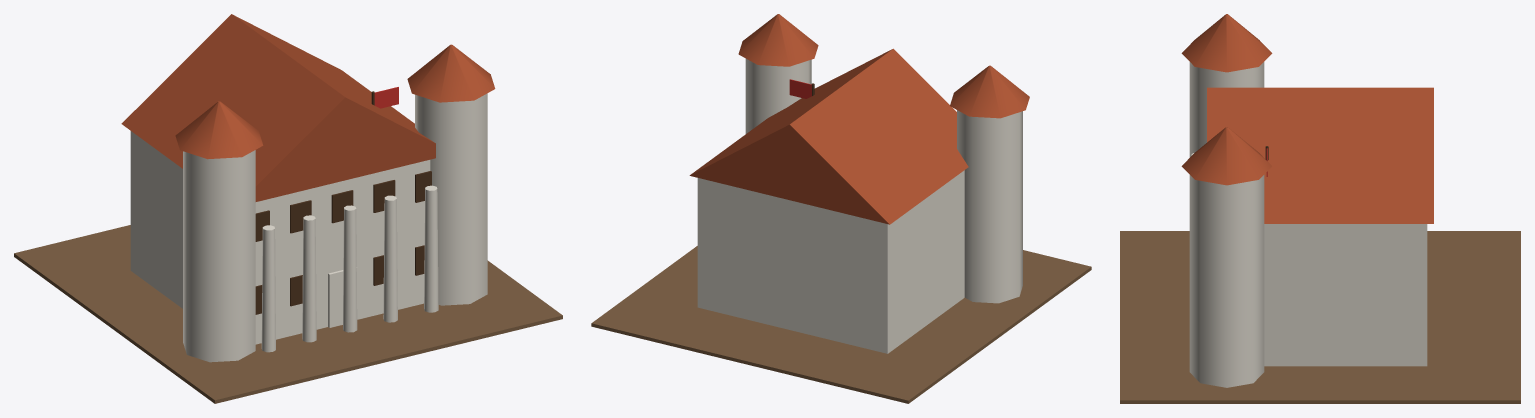
File: bld_special_command_center_a02_lod1.glb
3 views of the same model, side by side, from view 1: azimuth 30°, elevation 25°; view 2: azimuth 150°, elevation 25°; view 3: azimuth 270°, elevation 25° (orthographic). The views are drawn at different scales.
Parts seen in each view (by area): view 1: body; view 2: body; view 3: body.
Boxes of the visible parts, bbox=[...] form: body: bbox=[14, 14, 562, 403]; body: bbox=[591, 14, 1091, 403]; body: bbox=[1120, 14, 1520, 403].
Size of the model in its own units: 15 by 10.25 by 15.
